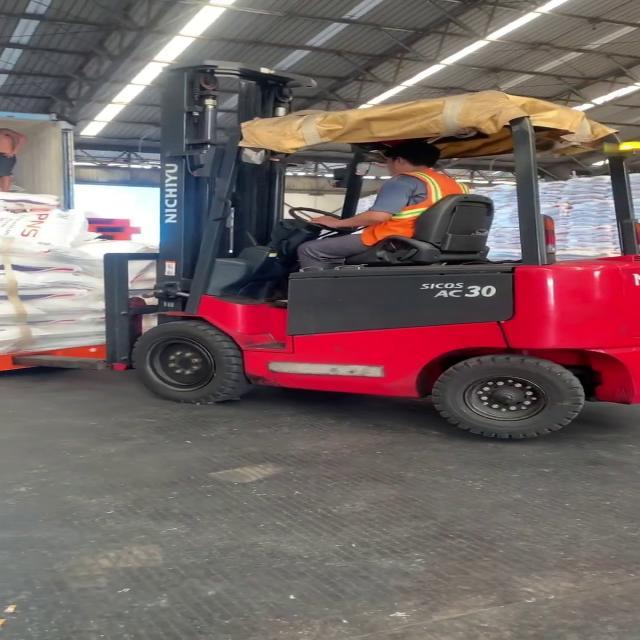box: (465, 173, 640, 270)
forklift: (82, 61, 640, 449)
person: (290, 132, 464, 283)
